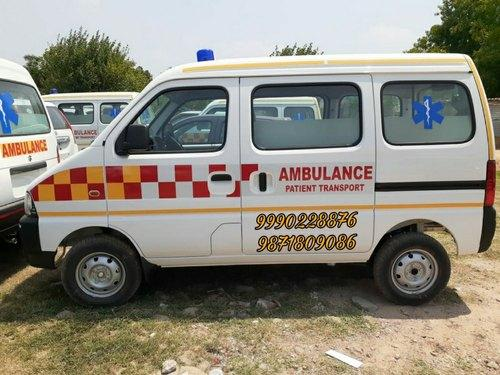-: (17, 28, 500, 339)
